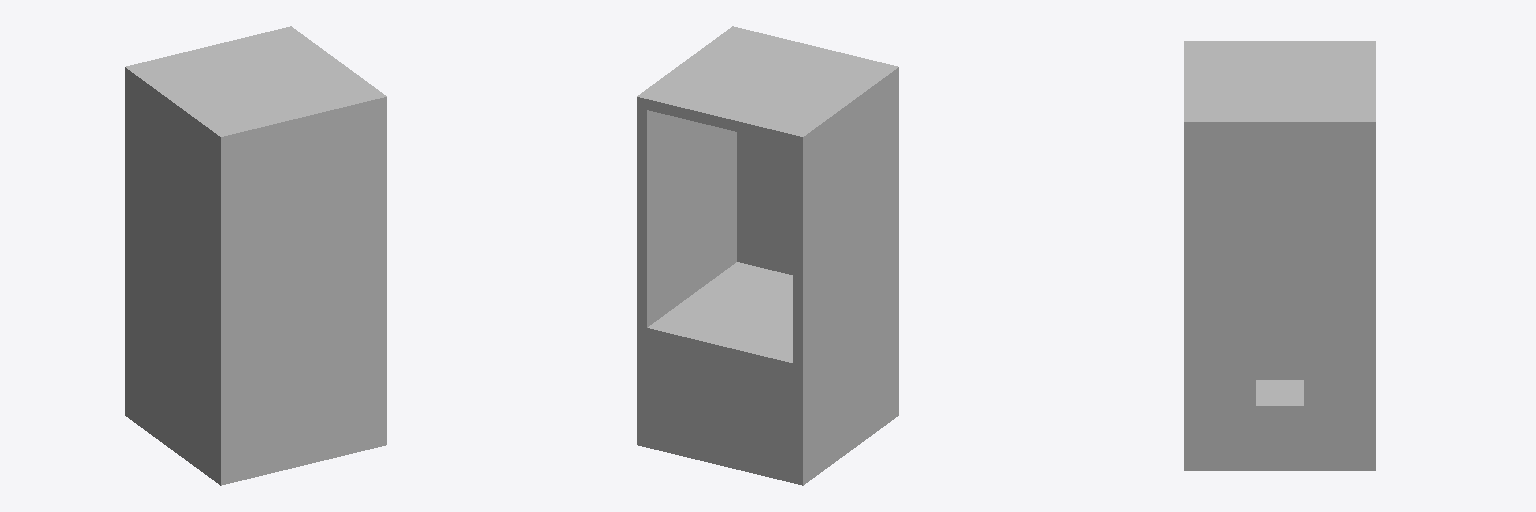
Rendered from chassis.obj.
The picture shows the model from 3 angles: view 1: azimuth 30°, elevation 25°; view 2: azimuth 150°, elevation 25°; view 3: azimuth 270°, elevation 25°; orthographic projection.
Parts seen in each view (by area): view 1: Case; view 2: Case; view 3: Case.
Part boxes in pixels (bbox=[...]): Case: bbox=[125, 26, 386, 485]; Case: bbox=[637, 26, 898, 485]; Case: bbox=[1184, 41, 1375, 470].
Size of the model in its own units: 1 by 2 by 1.